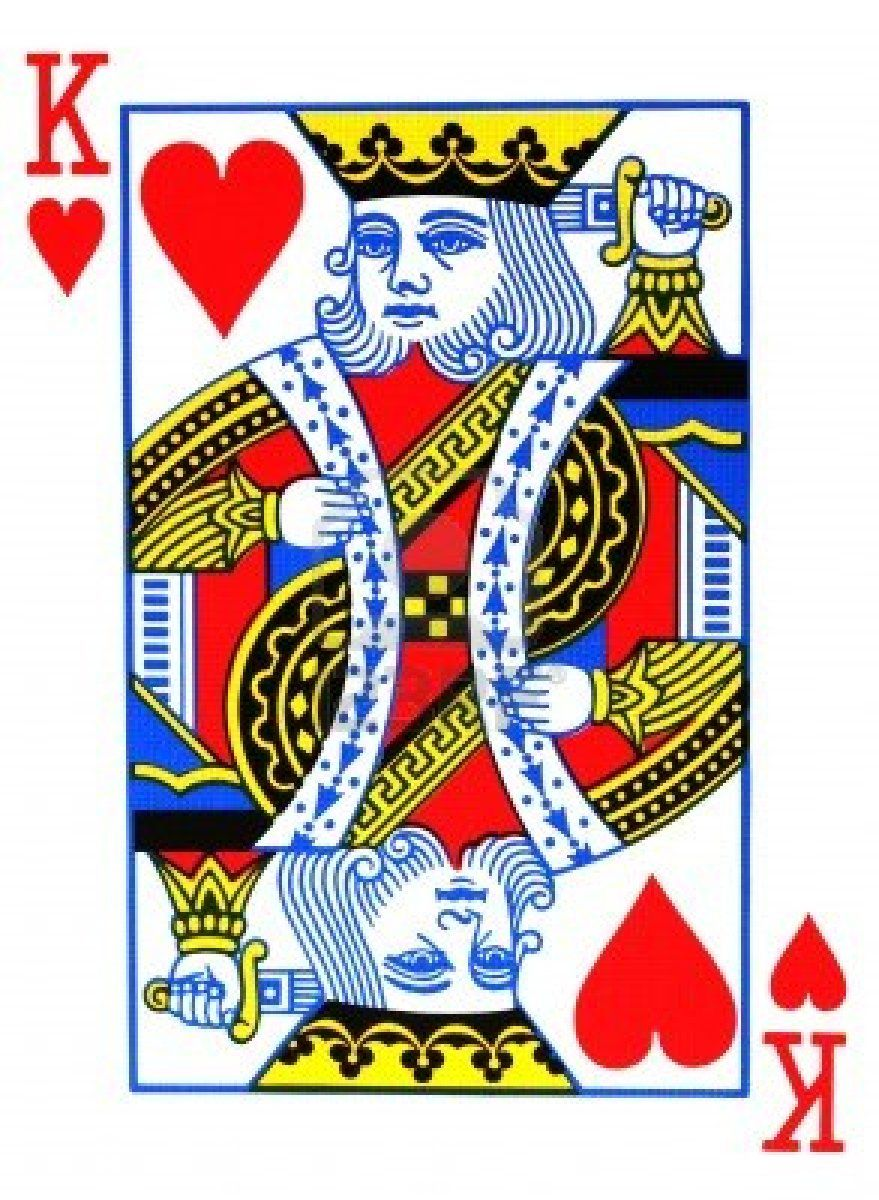king of hearts: (6, 24, 879, 1197)
